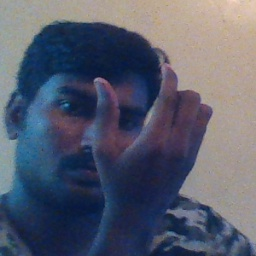U: (88, 63, 217, 195)
